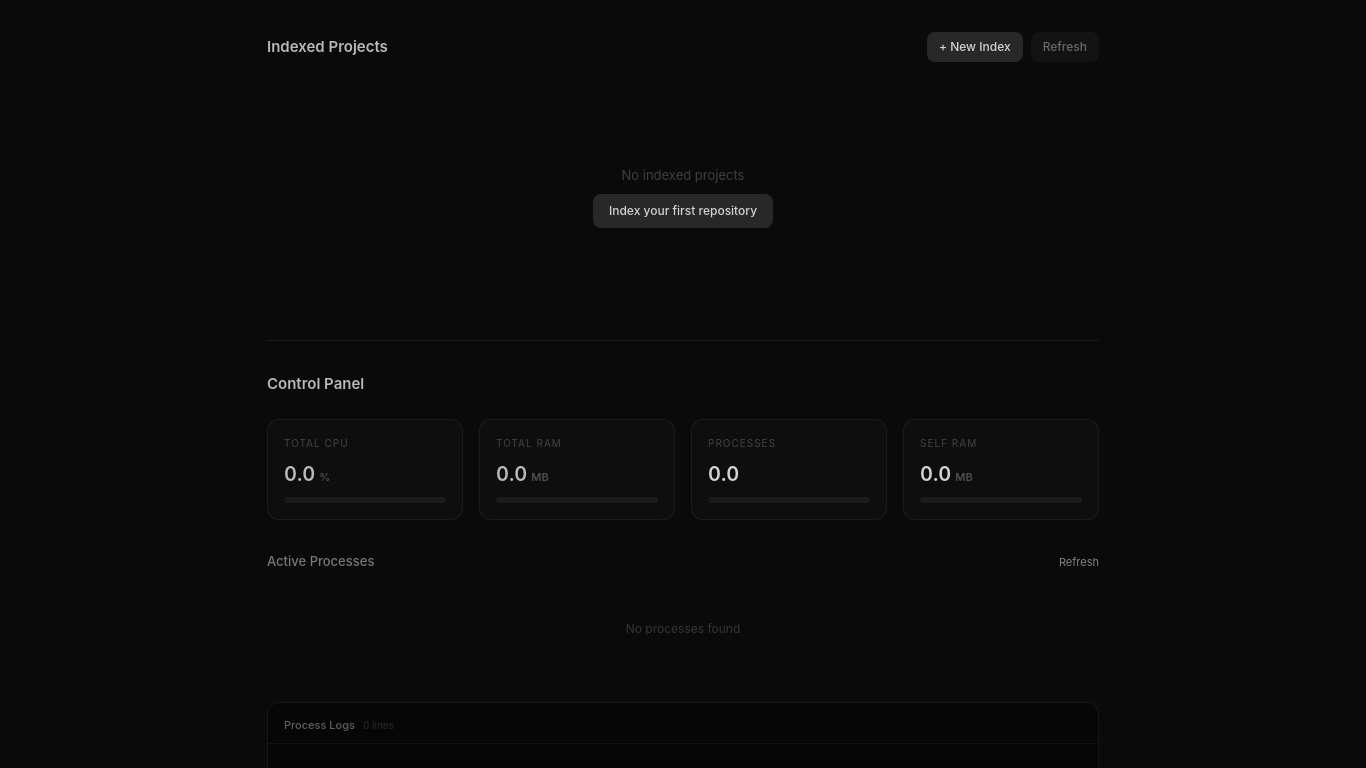
Scenario: Dashboard create-index modal › posts path only and stays on Dashboard after 202
Click the button "Index your first repository": [683, 210] box [593,194,773,228]
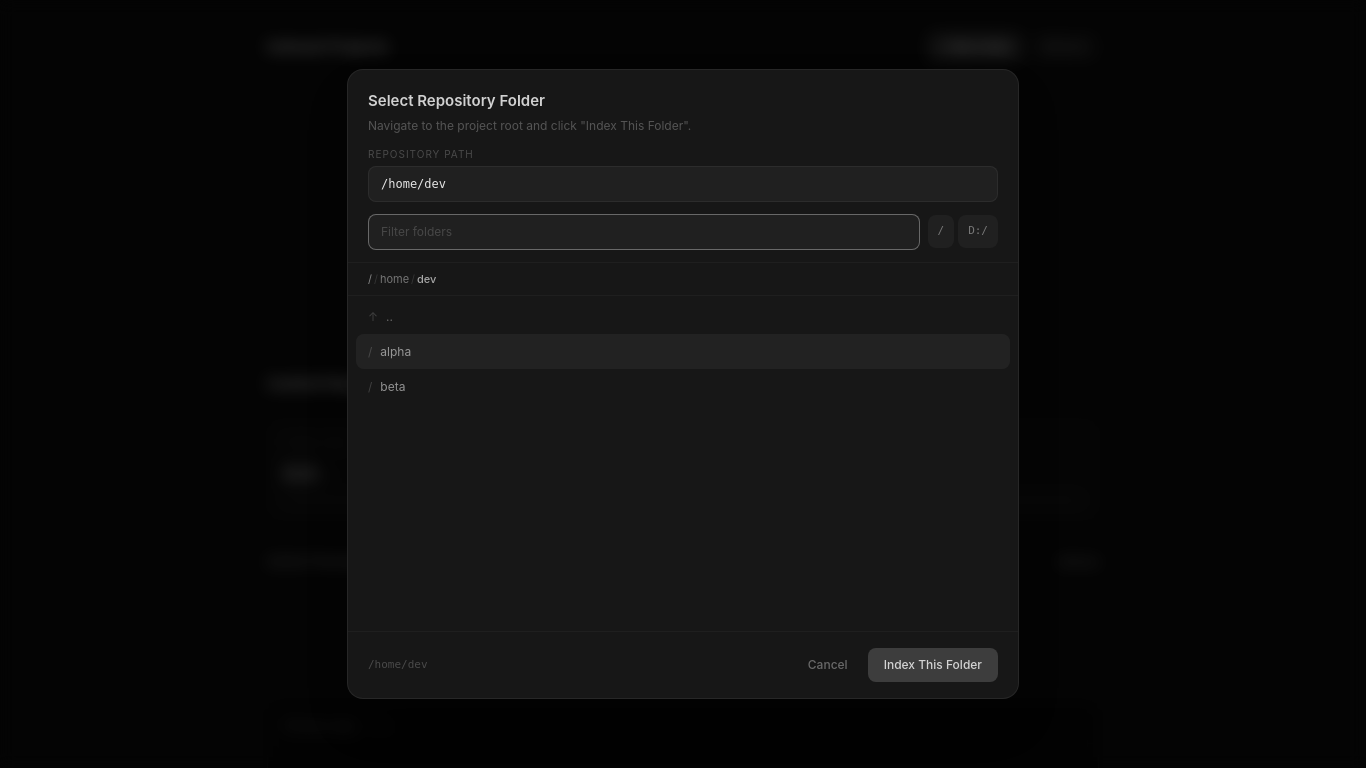
Check: the field showing "/home/dev" is shown, box [368,166,998,202]
Click the button "Index This Folder": [933, 665] box [868,648,998,682]
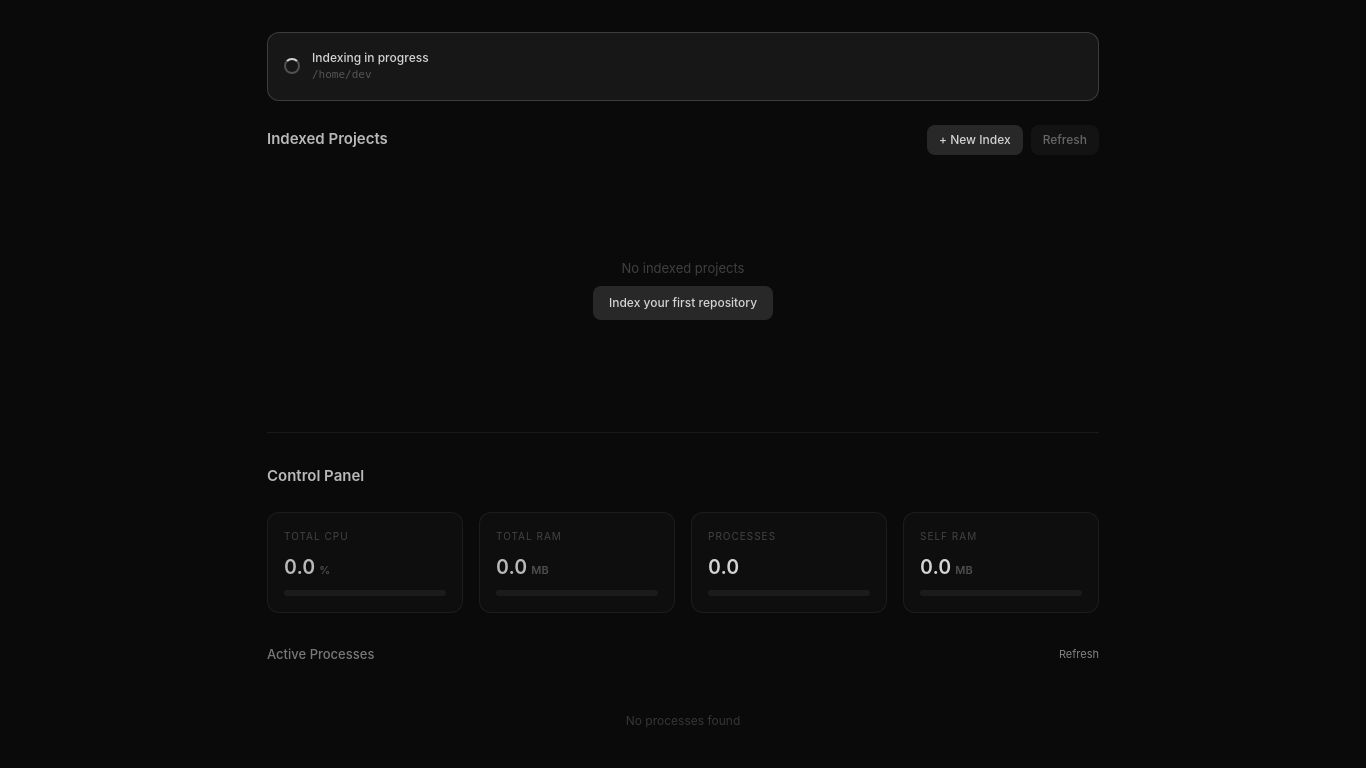
Check: the text "Indexing in progress" is shown, box [312,49,429,67]
